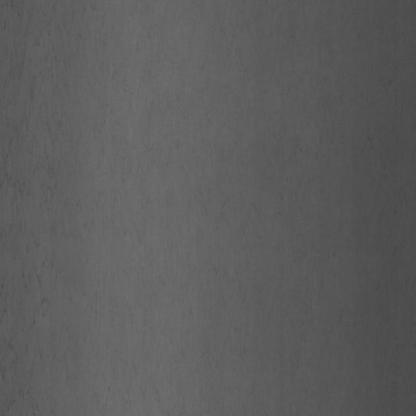silk_spot: (7, 53, 70, 294)
